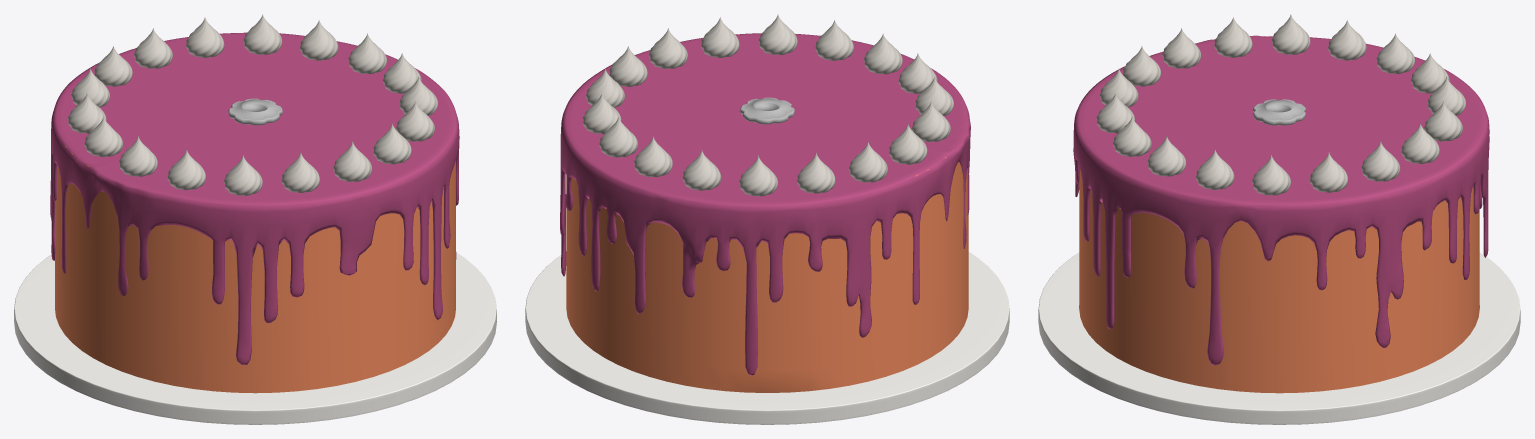
Rendered from 1773123328_cus.glb.
The picture shows the model from 3 angles, left to right: view 1: azimuth 30°, elevation 25°; view 2: azimuth 150°, elevation 25°; view 3: azimuth 270°, elevation 25°; orthographic projection.
Visible parts, largest first — view 1: pCylinder3, pCylinder5, pCylinder29_1004_0, Candle_1007_0, pSphere554, pSphere555, pSphere546, pSphere548, pSphere553, pSphere547, pSphere545, pSphere557 (+10 smaller); view 2: pCylinder3, pCylinder5, pCylinder29_1004_0, Candle_1007_0, pSphere551, pSphere558, pSphere556, pSphere549, pSphere548, pSphere559, pSphere560, pSphere546 (+10 smaller); view 3: pCylinder3, pCylinder5, pCylinder29_1004_0, Candle_1007_0, pSphere545, pSphere552, pSphere554, pSphere561, pSphere551, pSphere559, pSphere560, pSphere546 (+10 smaller).
Boxes of the visible parts, x1=… form: pCylinder3: x1=50, y1=32, x2=459, y2=364; pCylinder5: x1=55, y1=146, x2=455, y2=393; pCylinder29_1004_0: x1=14, y1=252, x2=496, y2=424; Candle_1007_0: x1=228, y1=98, x2=282, y2=125; pSphere554: x1=167, y1=149, x2=206, y2=190; pSphere555: x1=223, y1=155, x2=262, y2=195; pSphere546: x1=243, y1=14, x2=282, y2=54; pSphere548: x1=133, y1=28, x2=172, y2=68; pSphere553: x1=119, y1=136, x2=157, y2=176; pSphere547: x1=186, y1=17, x2=224, y2=57; pSphere545: x1=299, y1=20, x2=338, y2=60; pSphere557: x1=333, y1=141, x2=372, y2=181; pCylinder3: x1=560, y1=33, x2=970, y2=375; pCylinder5: x1=566, y1=157, x2=968, y2=392; pCylinder29_1004_0: x1=525, y1=252, x2=1009, y2=424; Candle_1007_0: x1=740, y1=97, x2=794, y2=124; pSphere551: x1=848, y1=142, x2=887, y2=182; pSphere558: x1=758, y1=14, x2=797, y2=54; pSphere556: x1=863, y1=33, x2=902, y2=74; pSphere549: x1=739, y1=155, x2=777, y2=196; pSphere548: x1=682, y1=150, x2=721, y2=190; pSphere559: x1=701, y1=17, x2=739, y2=57; pSphere560: x1=648, y1=28, x2=687, y2=68; pSphere546: x1=599, y1=117, x2=637, y2=157; pCylinder3: x1=1073, y1=35, x2=1489, y2=365; pCylinder5: x1=1079, y1=36, x2=1479, y2=393; pCylinder29_1004_0: x1=1038, y1=253, x2=1520, y2=424; Candle_1007_0: x1=1253, y1=99, x2=1305, y2=125; pSphere545: x1=1361, y1=141, x2=1400, y2=181; pSphere552: x1=1271, y1=14, x2=1310, y2=54; pSphere554: x1=1162, y1=28, x2=1201, y2=68; pSphere561: x1=1252, y1=155, x2=1290, y2=195; pSphere551: x1=1328, y1=20, x2=1366, y2=60; pSphere559: x1=1147, y1=136, x2=1186, y2=176; pSphere560: x1=1196, y1=149, x2=1234, y2=189; pSphere546: x1=1401, y1=123, x2=1439, y2=163.
Size of the model in its own units: 0.024 by 0.0131 by 0.024.
6 materials, 4 textured.
